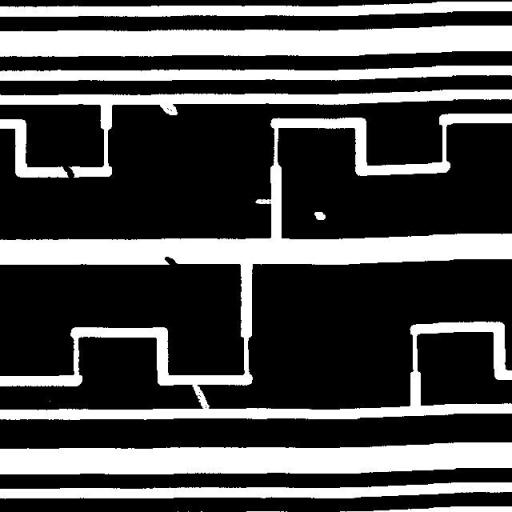mousebite: (152, 94, 185, 122), (247, 191, 279, 211)
open: (184, 374, 217, 418)
pin-hole: (306, 204, 333, 227)
short: (54, 156, 82, 186)
spur: (156, 249, 190, 276)
